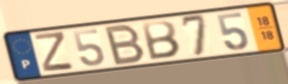5: (215, 10, 251, 52), (70, 27, 106, 68)
7: (178, 13, 208, 59)
B: (104, 22, 148, 67), (140, 19, 183, 61)
Z: (33, 30, 76, 73)
